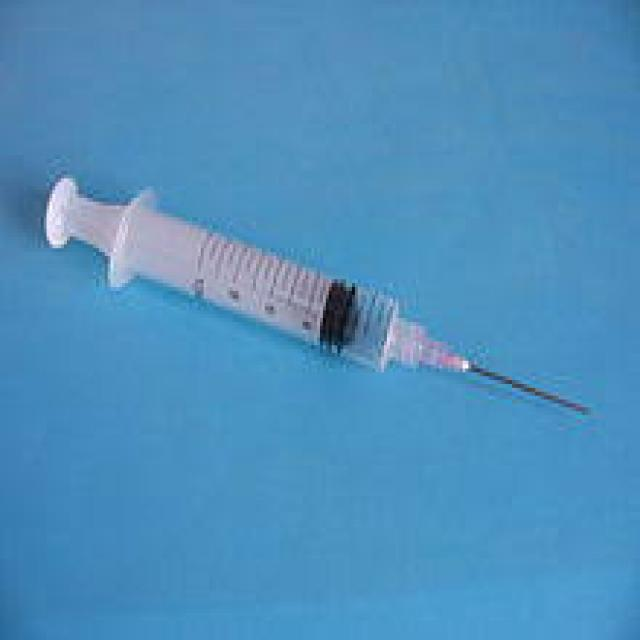syringe: (44, 161, 594, 465)
